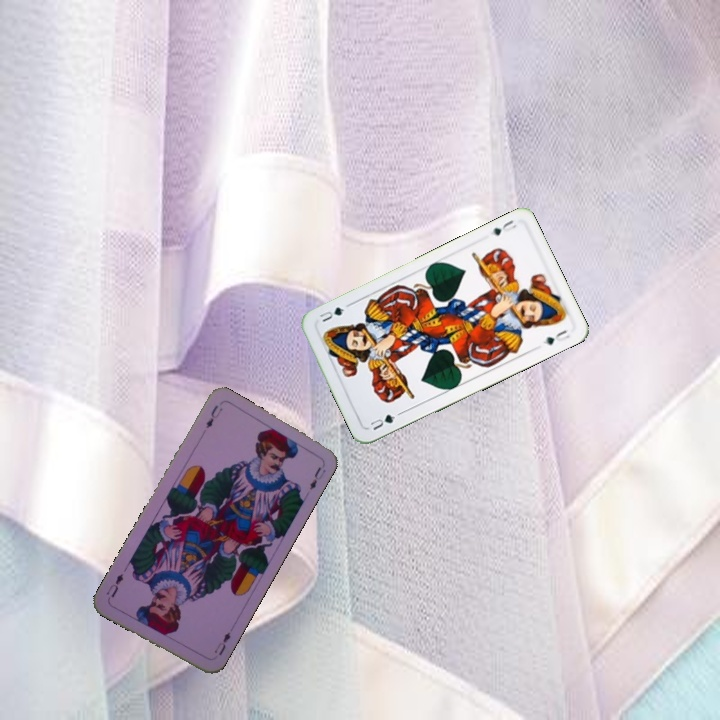EU: (201, 401, 225, 431), (210, 627, 233, 658)
GU: (366, 409, 403, 433), (486, 216, 519, 239)
